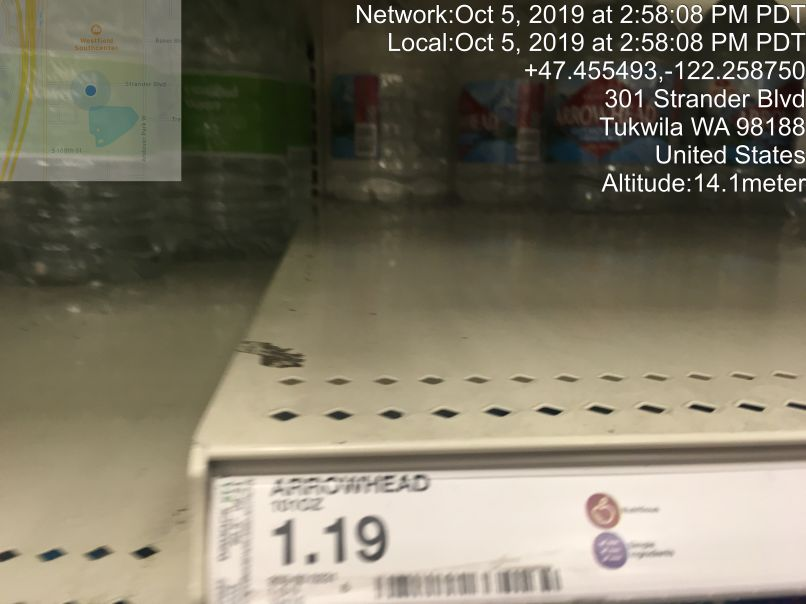Label: (229, 469, 681, 597)
Location: (589, 89, 806, 169)
Time: (350, 3, 806, 54)
Void: (287, 123, 621, 412)
